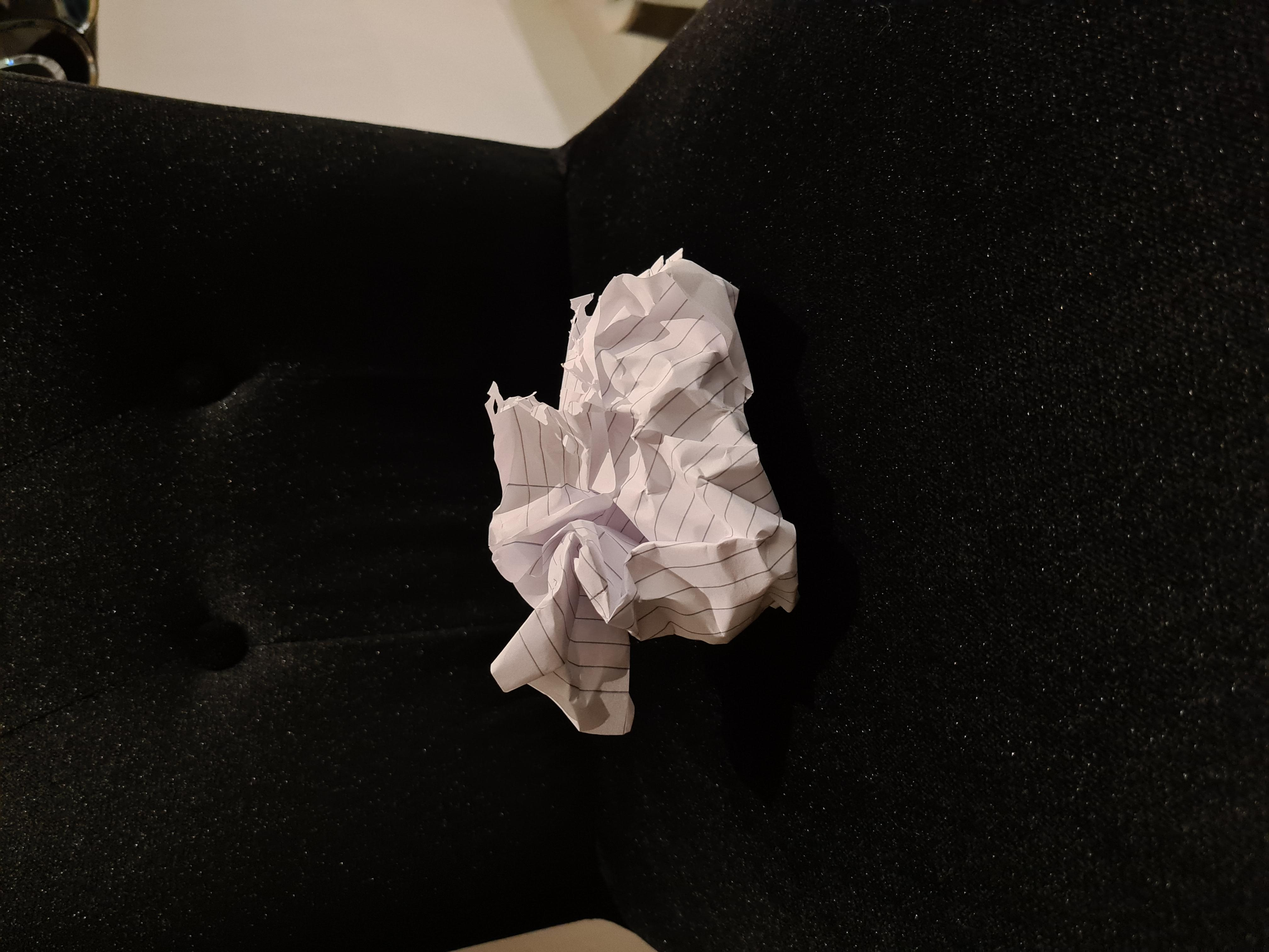paper: (258, 364, 936, 593)
